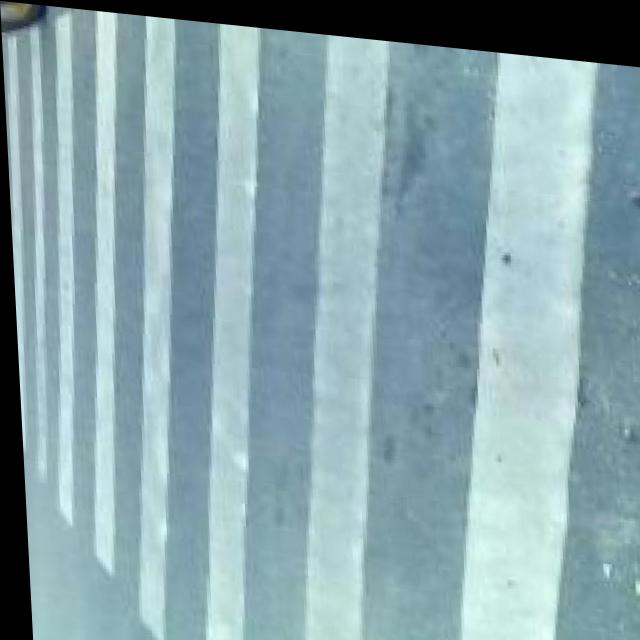zebra: (22, 62, 591, 530)
